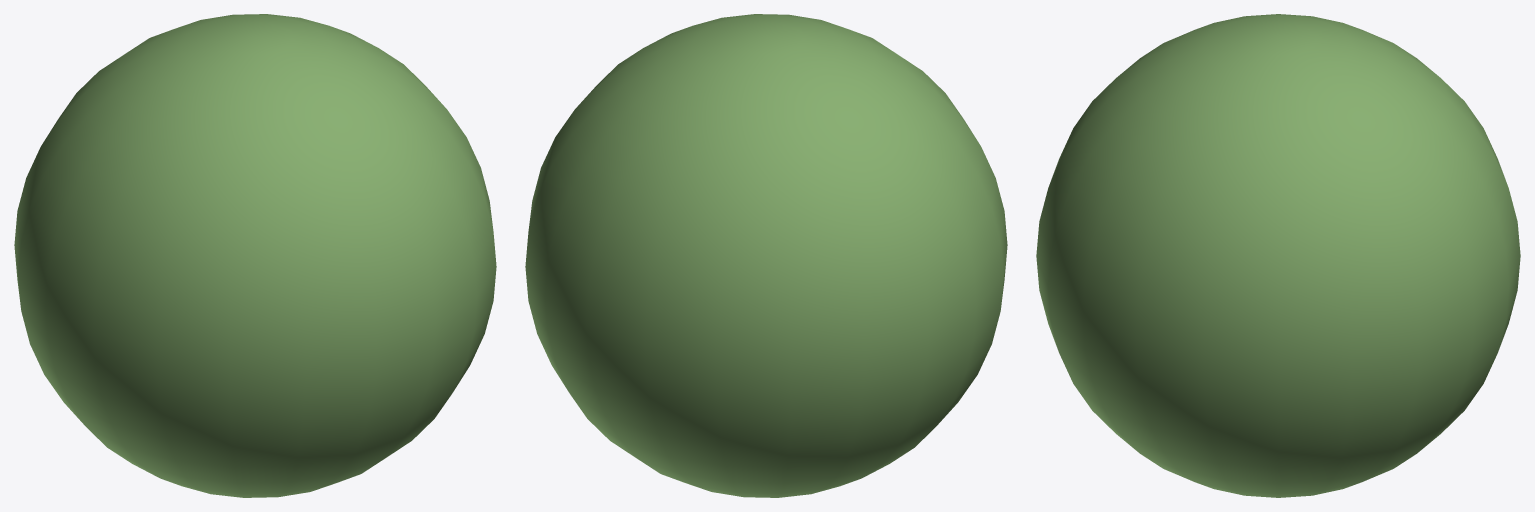
The model's file is spherediffparaunity.fbx.
The picture shows the model from 3 angles, left to right: view 1: azimuth 30°, elevation 25°; view 2: azimuth 150°, elevation 25°; view 3: azimuth 270°, elevation 25°; orthographic projection.
Parts seen in each view (by area): view 1: pSphere1; view 2: pSphere1; view 3: pSphere1.
Boxes of the visible parts, x1=… form: pSphere1: x1=14, y1=14, x2=496, y2=497; pSphere1: x1=525, y1=14, x2=1007, y2=497; pSphere1: x1=1036, y1=14, x2=1520, y2=497.
Bounding box in the file's own units: 2 × 2 × 2.
